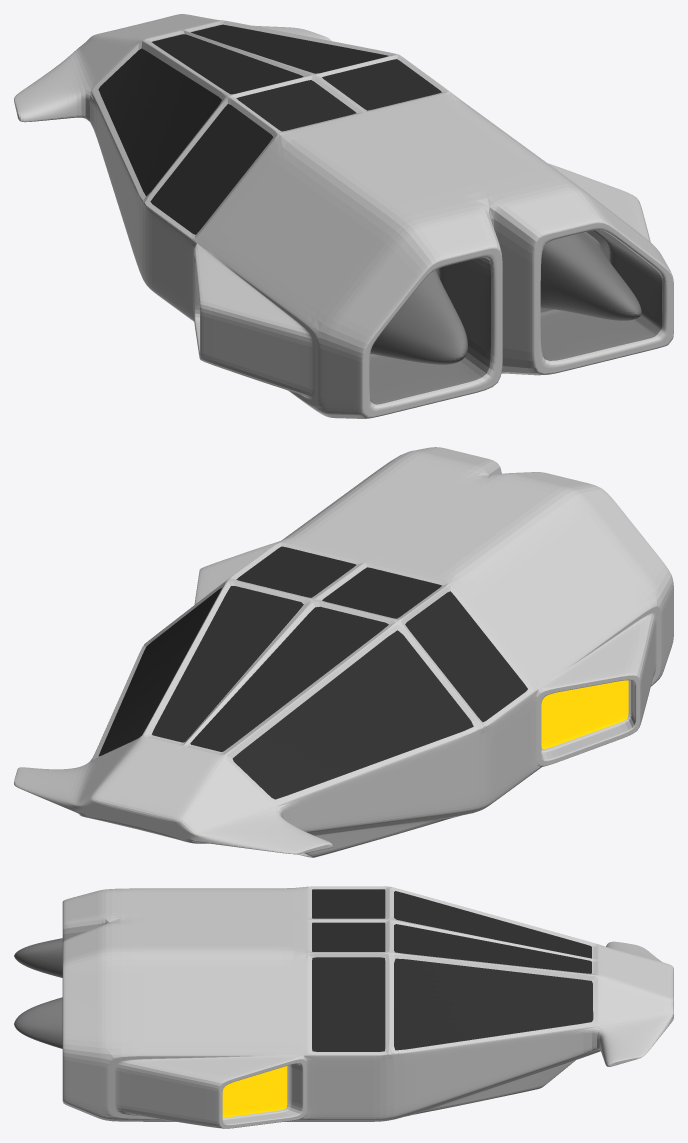
File: hover.fbx
3 views of the same model, one above another, from view 1: azimuth 30°, elevation 25°; view 2: azimuth 150°, elevation 25°; view 3: azimuth 270°, elevation 25° (orthographic). The views are drawn at different scales.
Parts seen in each view (by area): view 1: Cube.002; view 2: Cube.002; view 3: Cube.002.
Boxes of the visible parts, x1,y1,x2,y2 form: Cube.002: (14, 14, 673, 418); Cube.002: (14, 447, 673, 857); Cube.002: (14, 886, 673, 1128).
Bounding box in the file's own units: 529 × 200 × 861.
